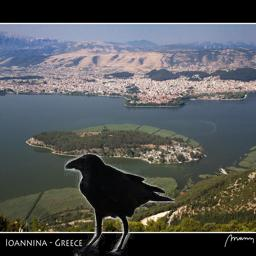Crow: (64, 153, 175, 256)
